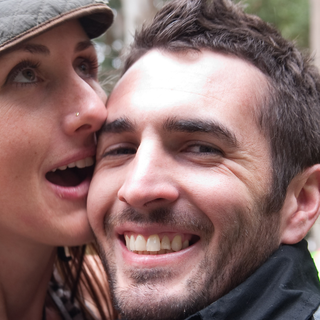eye: (177, 139, 232, 163), (5, 56, 46, 87), (97, 138, 139, 163)
